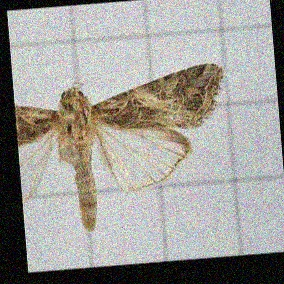Spodoptera litura: (18, 69, 231, 229)
